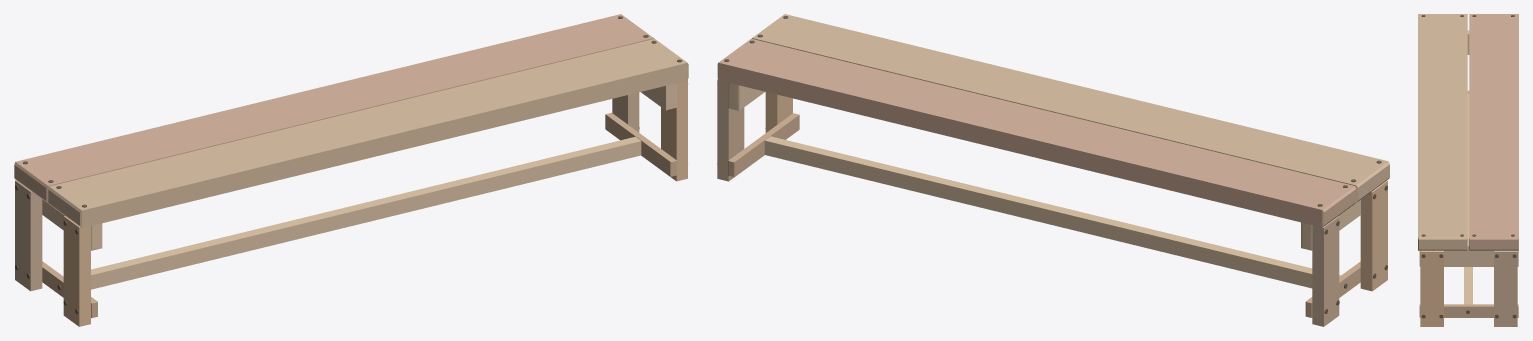
Rendered from Proto_WoodenTableBench_01.fbx.
3 views of the same model, side by side, from view 1: azimuth 30°, elevation 25°; view 2: azimuth 150°, elevation 25°; view 3: azimuth 270°, elevation 25° (orthographic). The views are drawn at different scales.
Parts seen in each view (by area): view 1: WoodenTableBench; view 2: WoodenTableBench; view 3: WoodenTableBench.
Boxes of the visible parts, left/top/right/bottom form: WoodenTableBench: left=14, top=14, right=688, bottom=326; WoodenTableBench: left=717, top=14, right=1389, bottom=326; WoodenTableBench: left=1418, top=14, right=1518, bottom=326.
Bounding box in the file's own units: 25.65 × 4.75 × 4.86.
